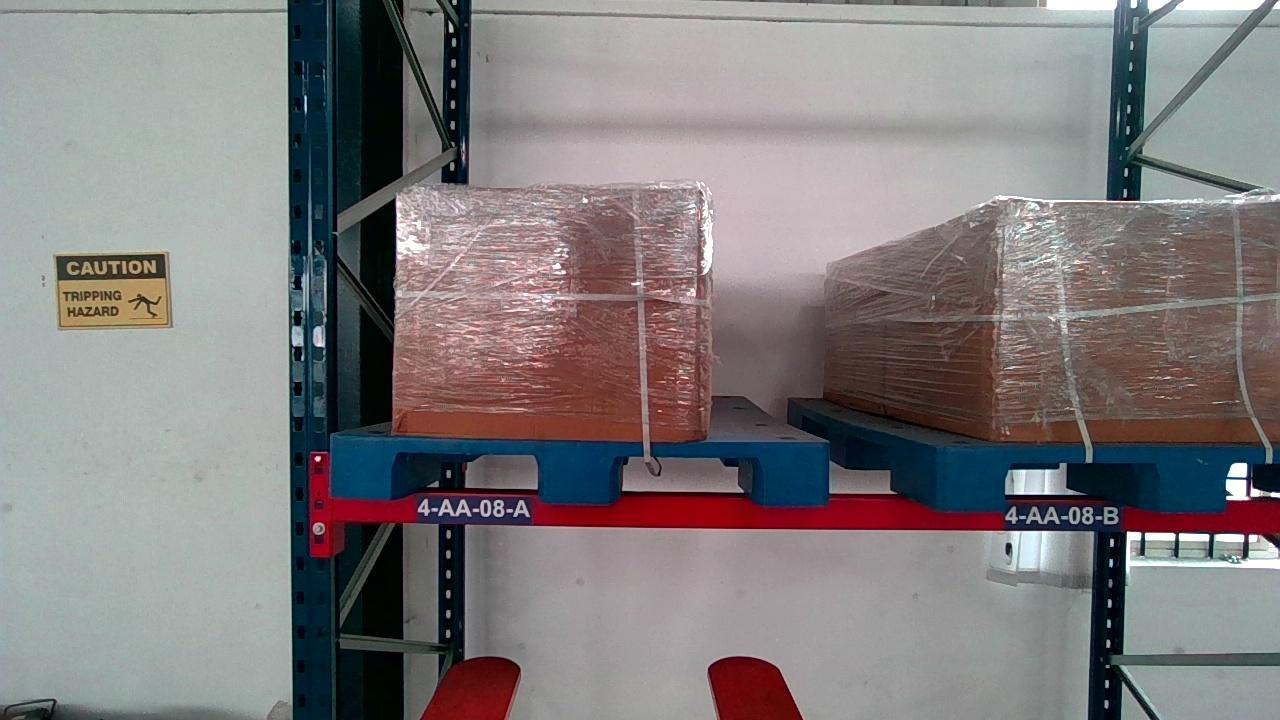h_rack: (328, 491, 1280, 531)
small_pallet: (335, 434, 827, 502), (955, 439, 1280, 506)
